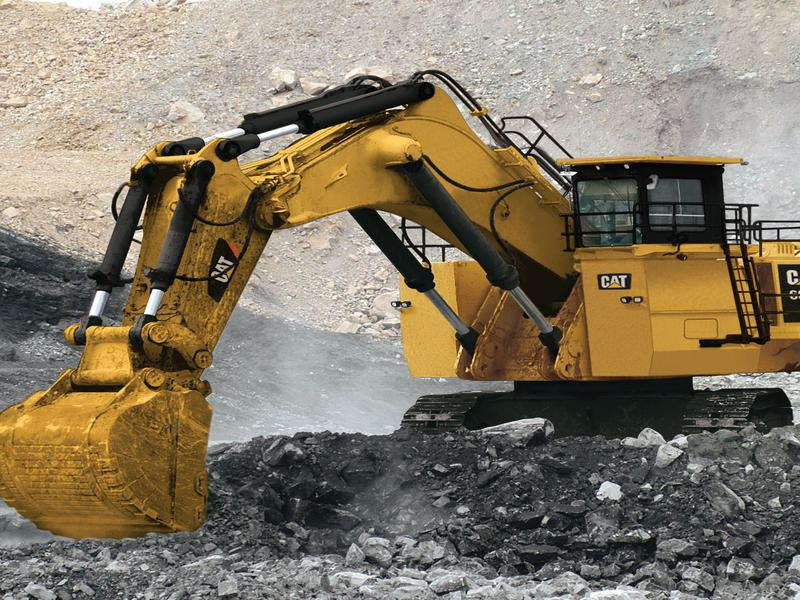shovel: (4, 61, 800, 547)
